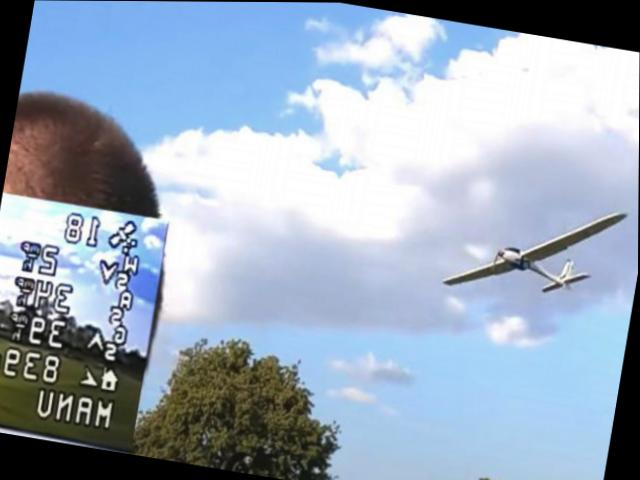iha: (441, 177, 632, 315)
